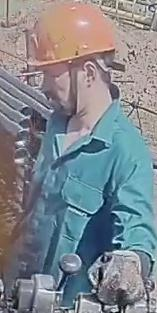gloves: (88, 242, 153, 307)
helmet: (25, 0, 116, 69)
vest: (10, 98, 154, 307)
